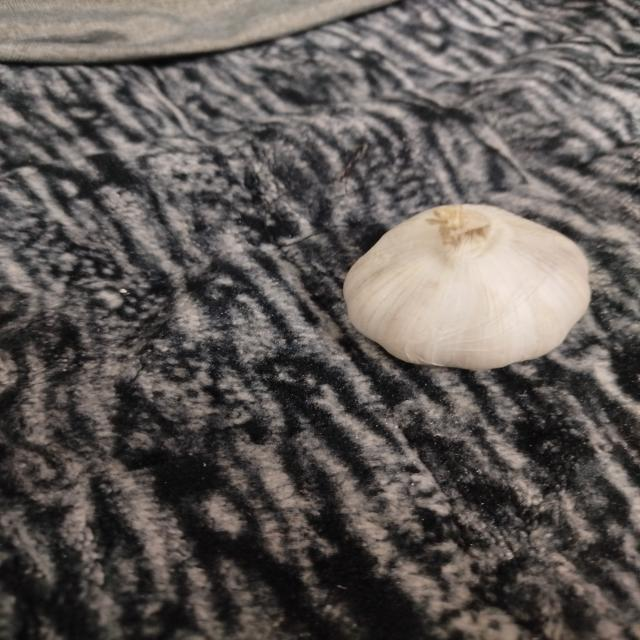garlic: (342, 202, 592, 372)
